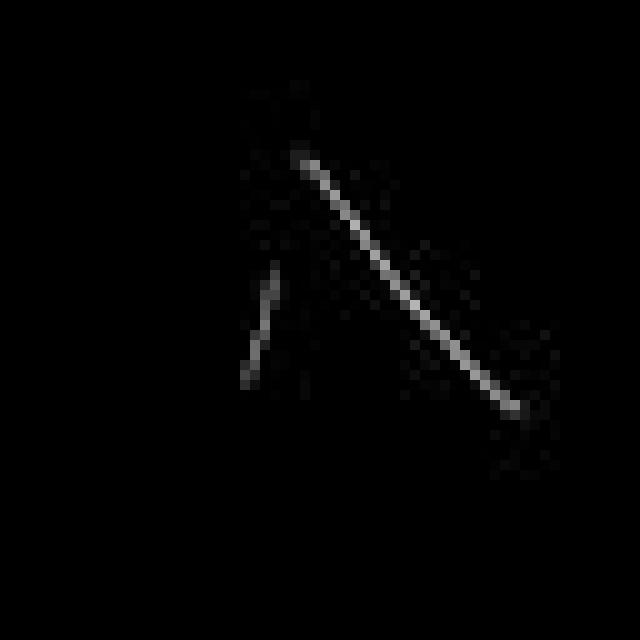8 -eight-: (220, 134, 536, 438)
